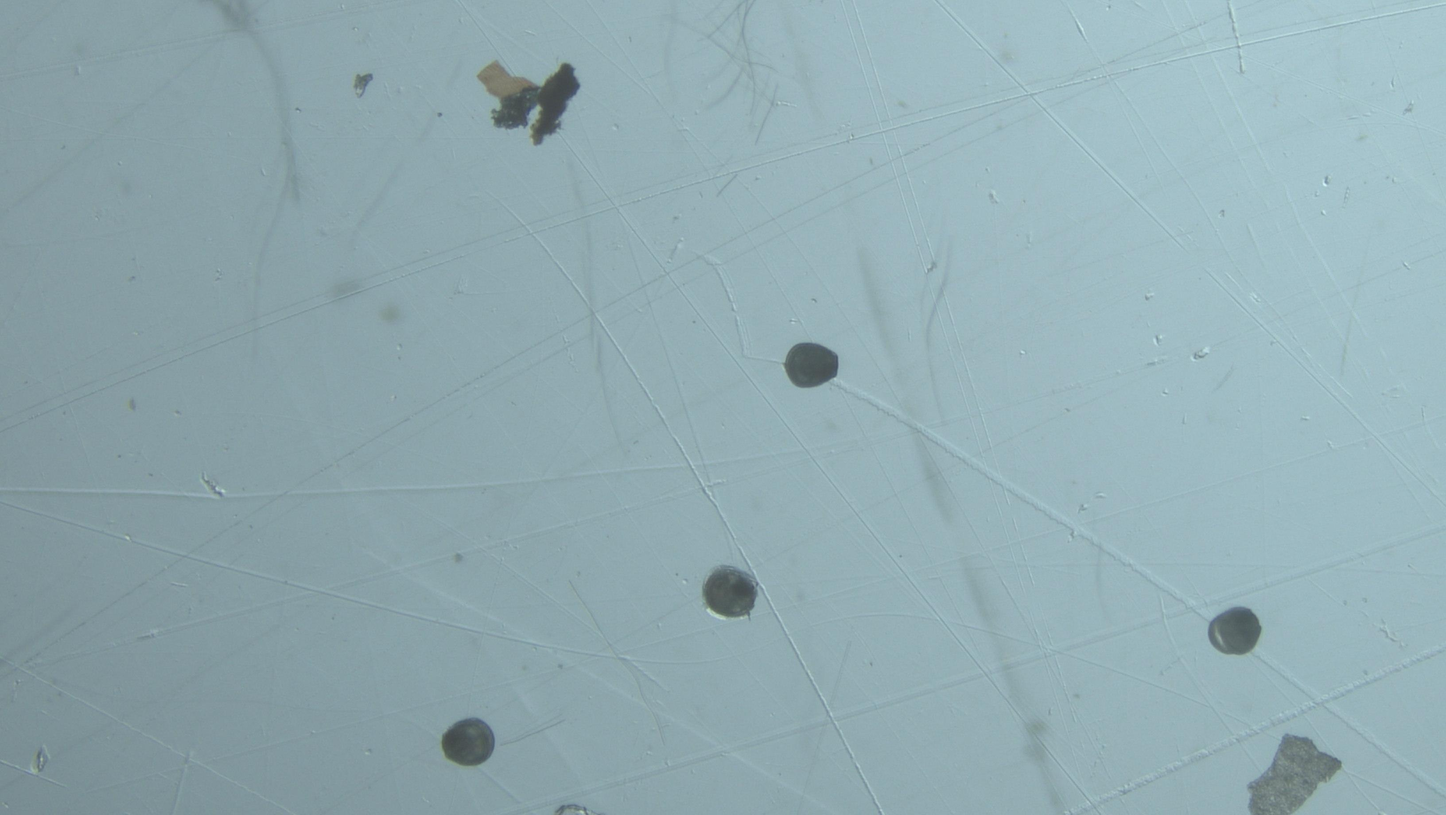live: (703, 566, 758, 618), (441, 718, 496, 766), (1209, 607, 1262, 655), (785, 343, 839, 388)
